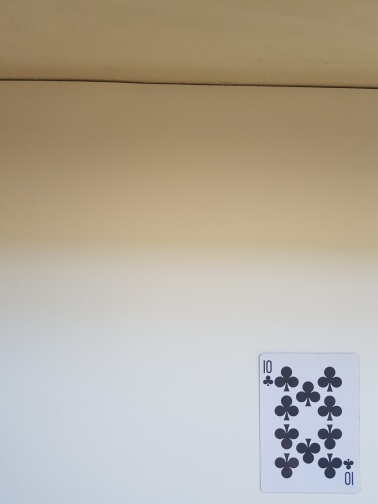ten: (257, 352, 362, 495)
